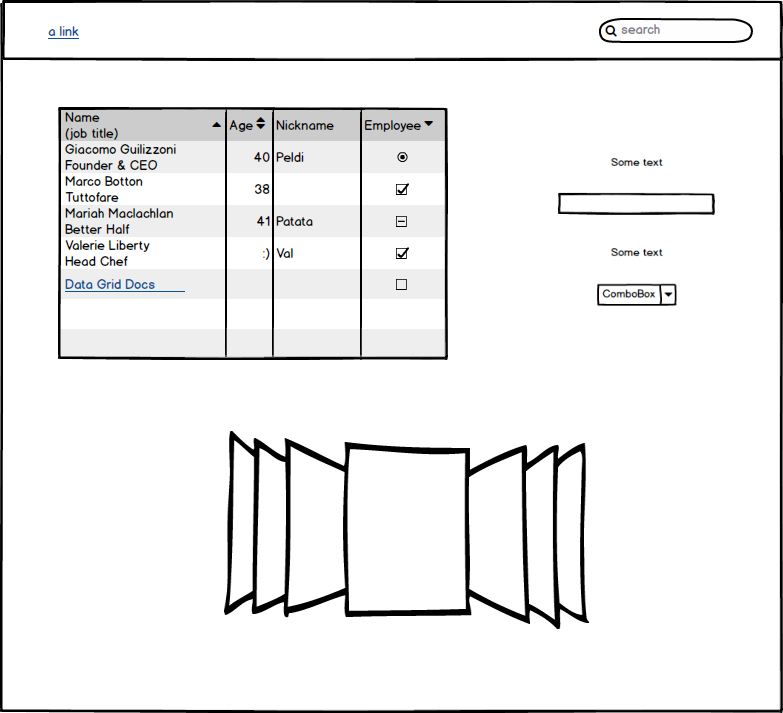input: (554, 187, 719, 220)
label: (605, 239, 674, 261), (606, 154, 667, 169)
navlink: (41, 20, 87, 44)
search: (595, 14, 756, 47)
select_box: (592, 279, 683, 309)
slideshow: (214, 424, 598, 636)
table: (51, 103, 453, 366)
